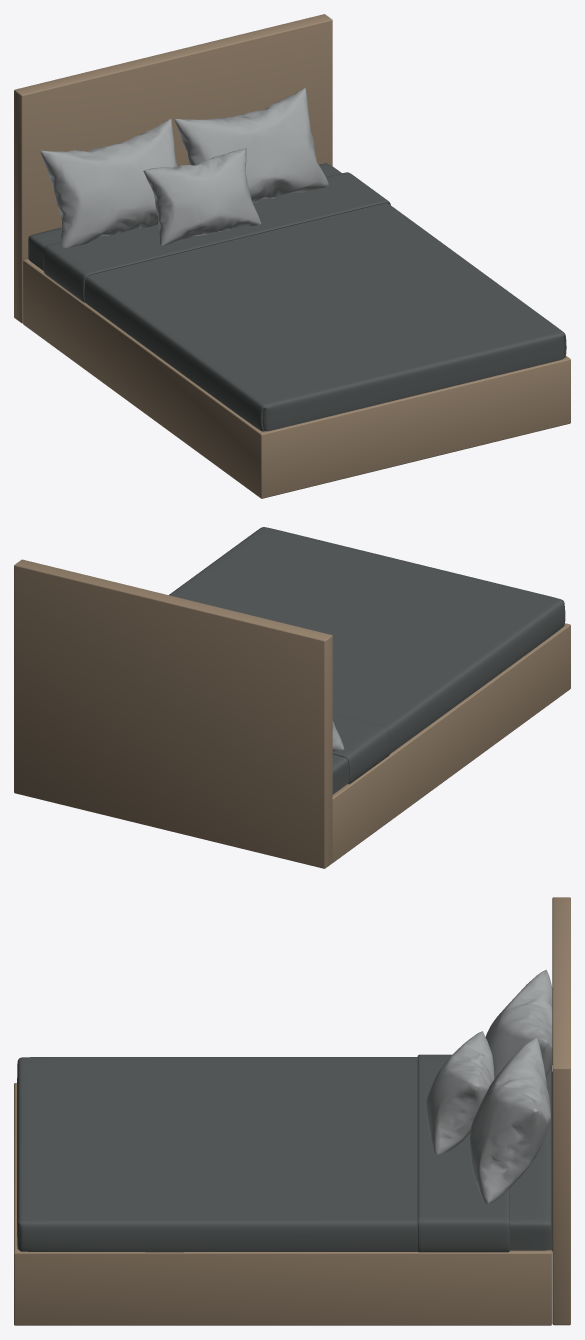
Rendered from Bed Wood Oak.fbx.
The picture shows the model from 3 angles, top to bottom: view 1: azimuth 30°, elevation 25°; view 2: azimuth 150°, elevation 25°; view 3: azimuth 270°, elevation 25°; orthographic projection. The views are drawn at different scales.
Visible parts, largest first — view 1: Cloth, BedBase, BedPillows; view 2: BedBase, Cloth; view 3: Cloth, BedBase, BedPillows.
Boxes of the visible parts, x1,y1,x2,y2 form: Cloth: (28, 163, 566, 431); BedBase: (14, 14, 570, 498); BedPillows: (40, 87, 329, 247); BedBase: (14, 559, 570, 868); Cloth: (169, 527, 565, 794); Cloth: (17, 1054, 552, 1252); BedBase: (14, 897, 570, 1325); BedPillows: (426, 969, 552, 1203).
Bounding box in the file's own units: 59.32 × 41.72 × 81.53.
